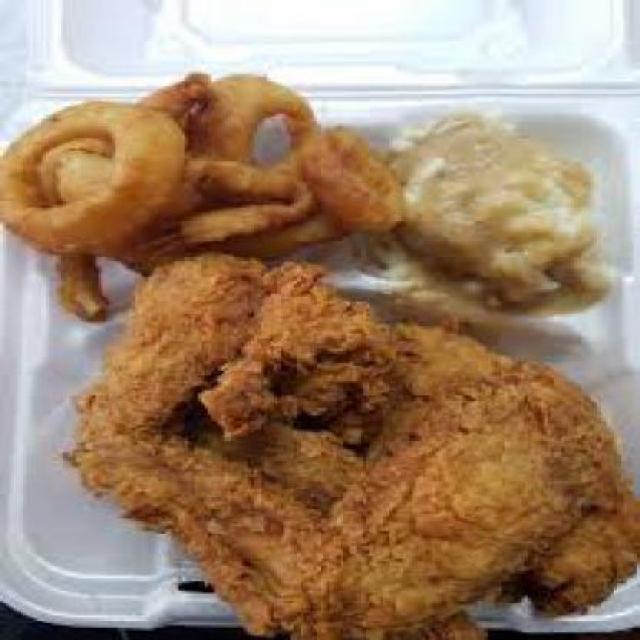chicken wings: (59, 247, 636, 638)
onion rings: (3, 65, 409, 289)
